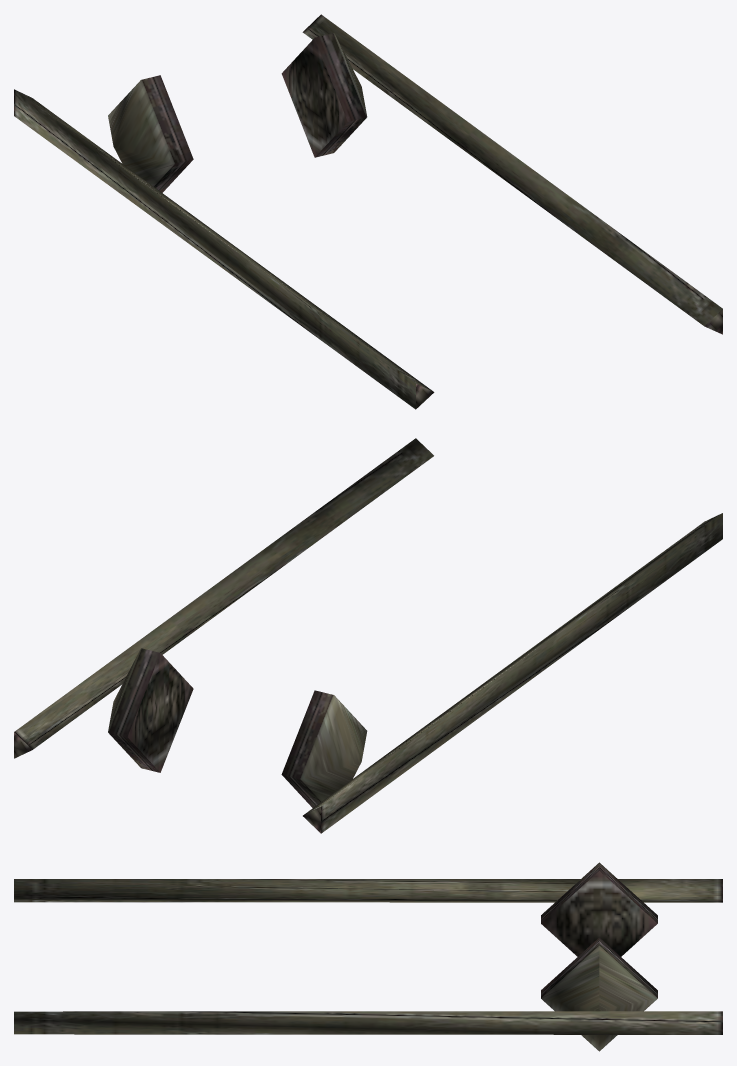
The model's file is smuggler_warlord_ship_turretbody_nose_l3.fbx.
3 renders of one model, top to bottom at view 1: azimuth 30°, elevation 25°; view 2: azimuth 150°, elevation 25°; view 3: azimuth 270°, elevation 25°, orthographic. The views are drawn at different scales.
Visible parts, largest first — view 1: mesh_node; view 2: mesh_node; view 3: mesh_node.
Boxes of the visible parts, x1,y1,x2,y2 form: mesh_node: (14, 14, 722, 409); mesh_node: (14, 438, 722, 833); mesh_node: (14, 862, 722, 1051).
Size of the model in its own units: 5.97 by 2.23 by 13.52.
